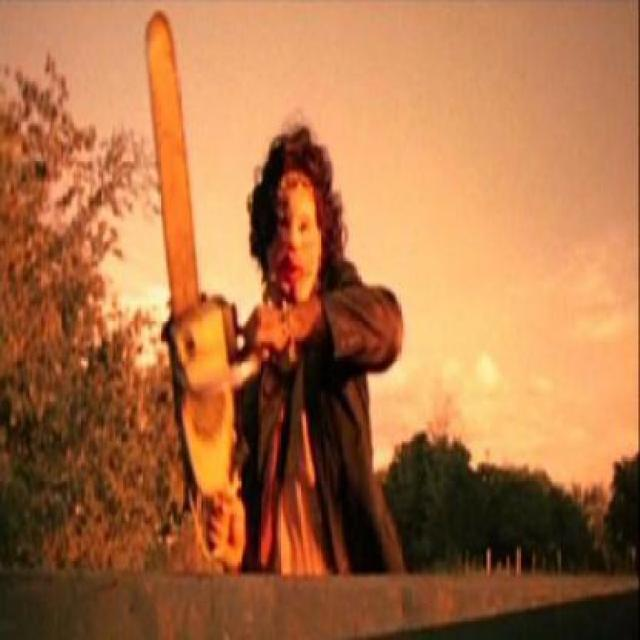Chainsaw: (142, 8, 269, 503)
